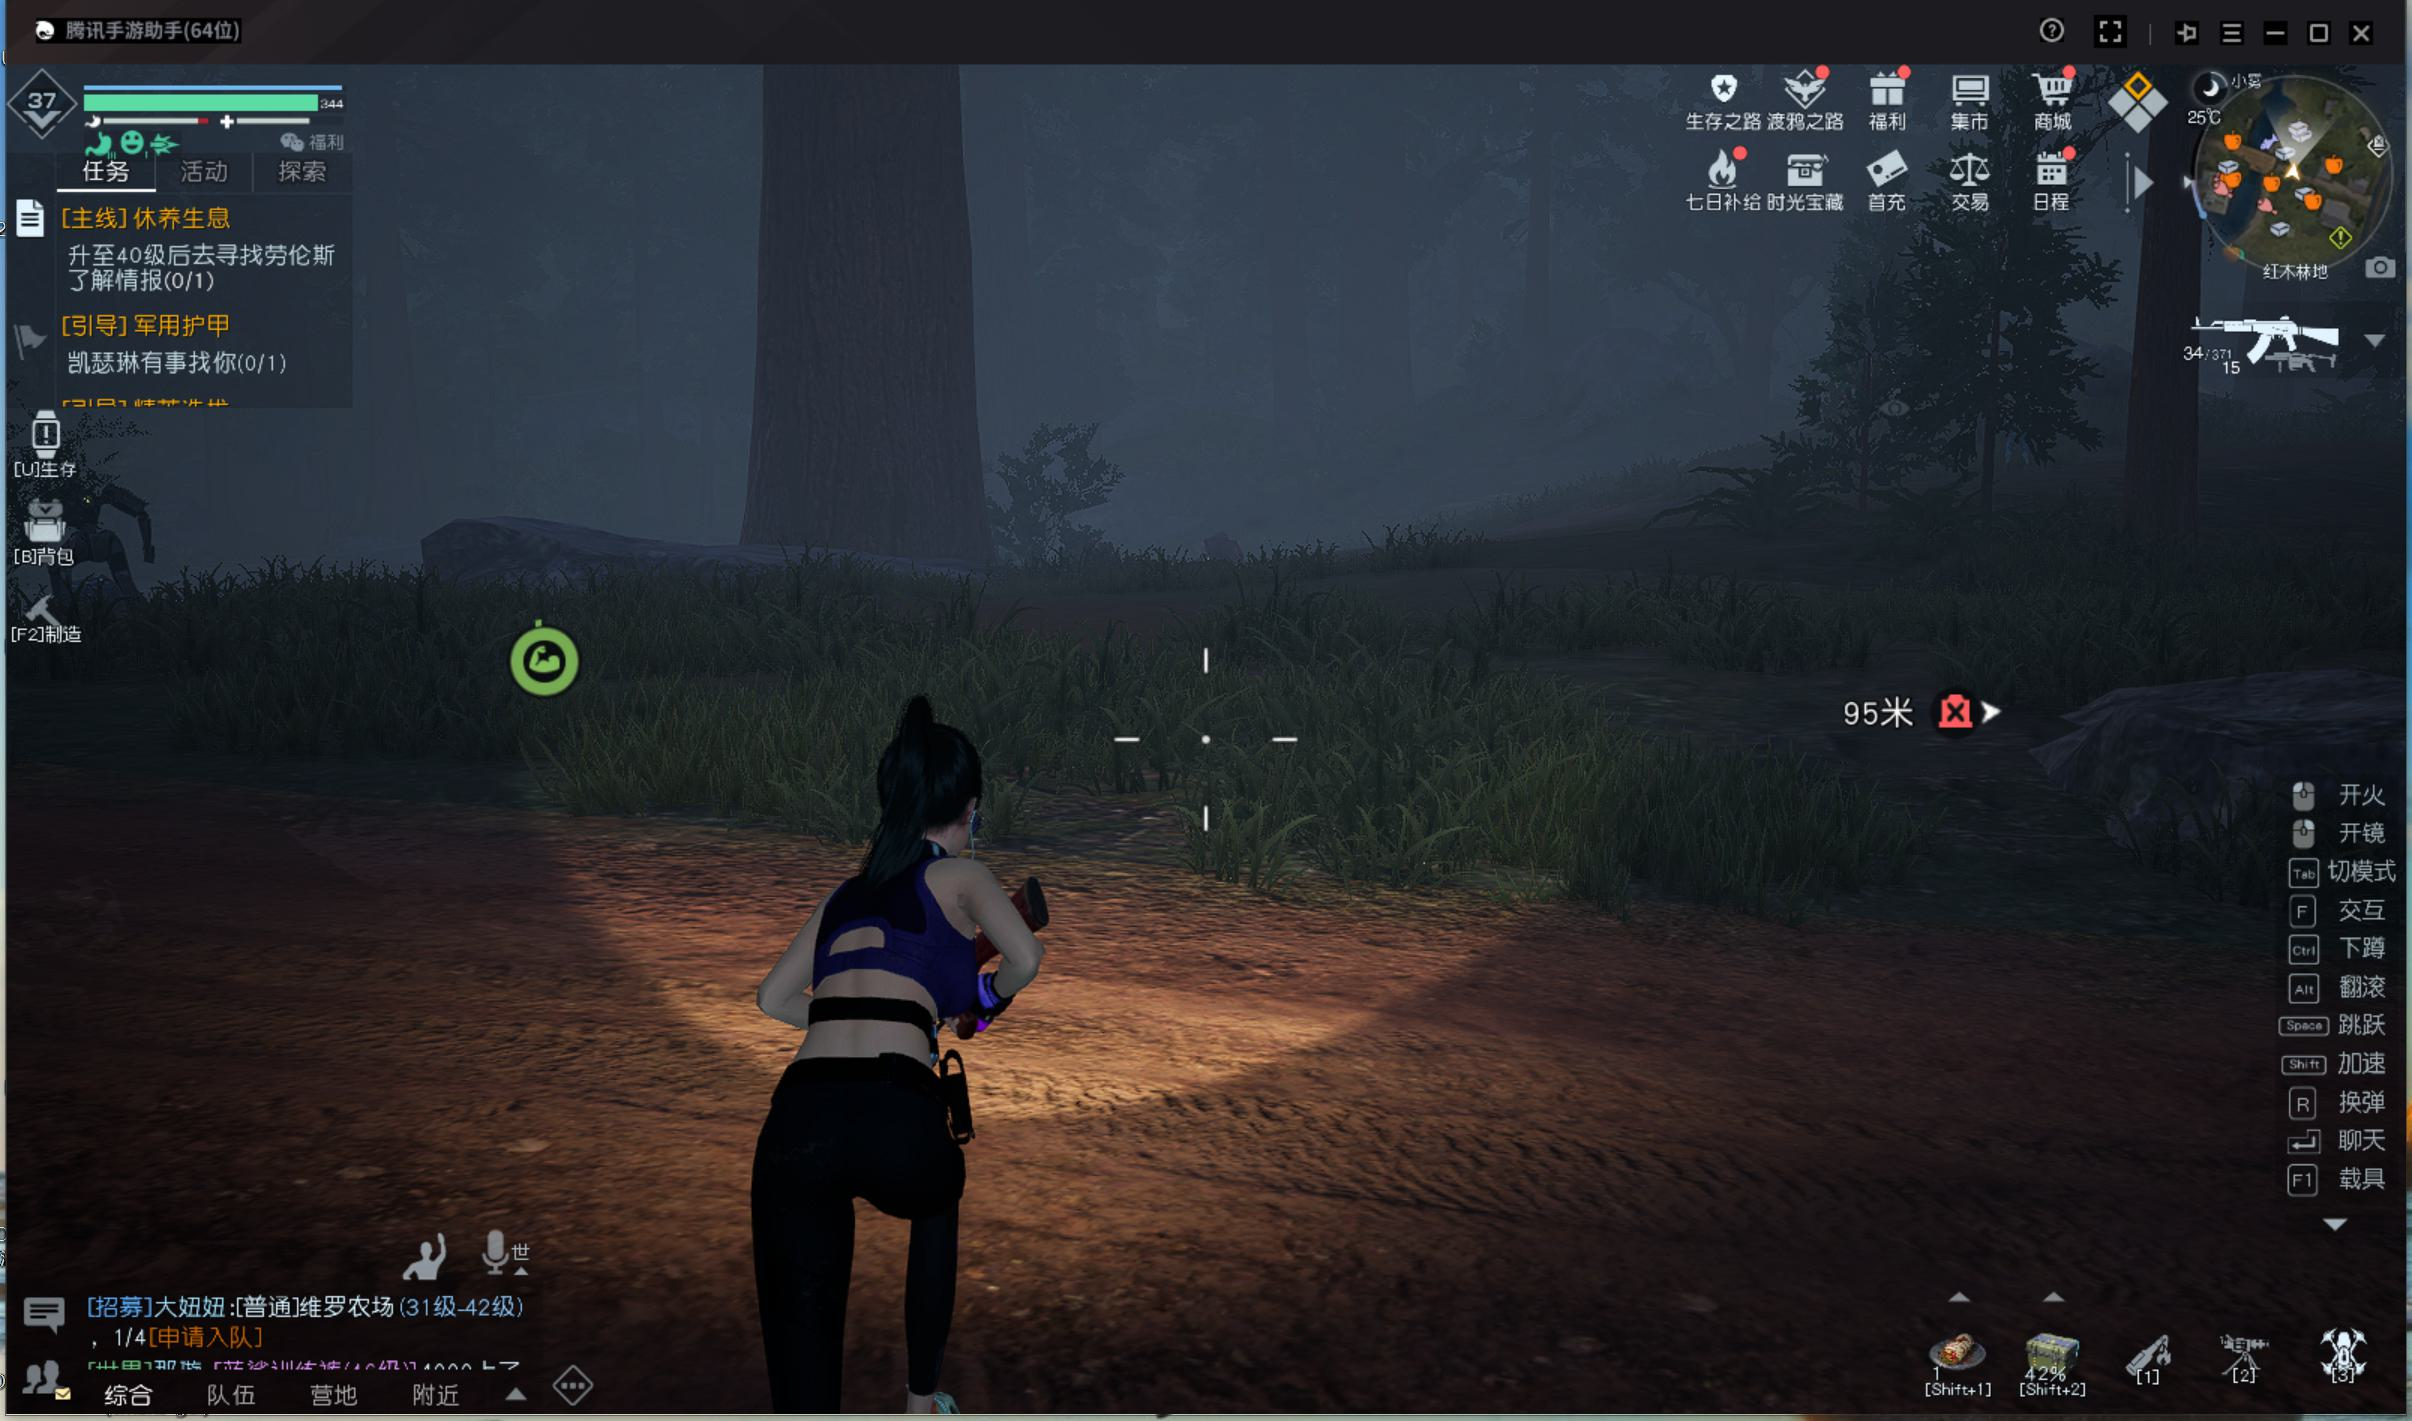tree: (722, 78, 1005, 570), (2104, 233, 2217, 545)
